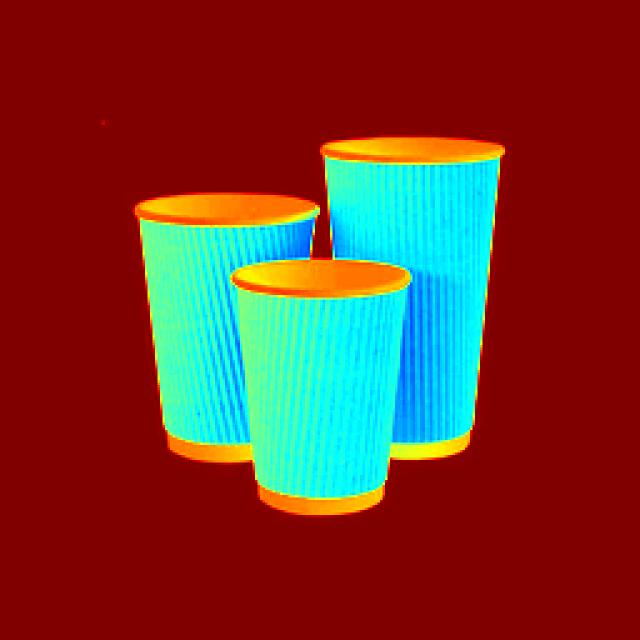Paper Cups: (319, 124, 477, 483), (124, 201, 311, 457), (242, 261, 383, 538)
